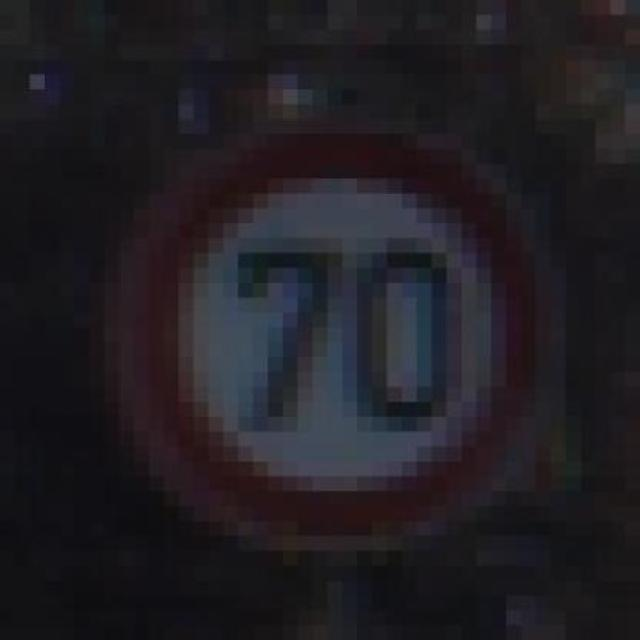forb_speed_over_70: (138, 129, 540, 543)
